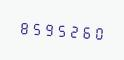eight: (17, 16, 28, 37)
five: (29, 17, 40, 38), (53, 19, 64, 40)
nine: (41, 18, 52, 39)
six: (77, 21, 88, 41)
two: (65, 20, 76, 41)
zero: (89, 21, 100, 42)
